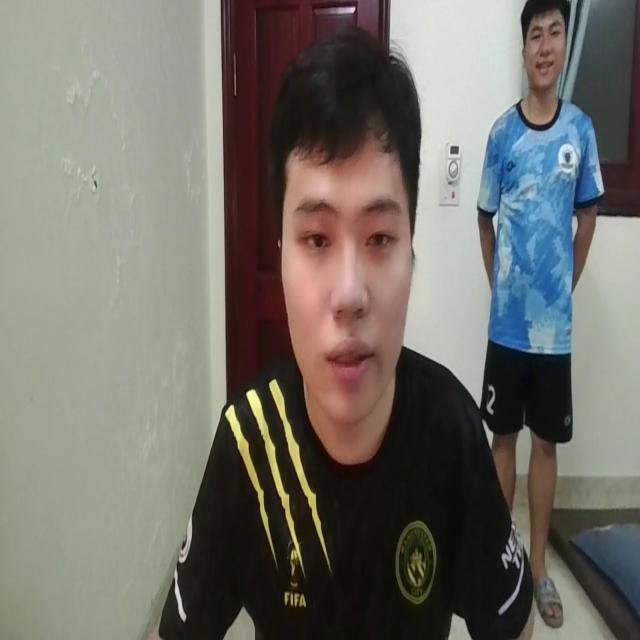extra_person: (476, 4, 604, 632)
student: (141, 23, 527, 640)
